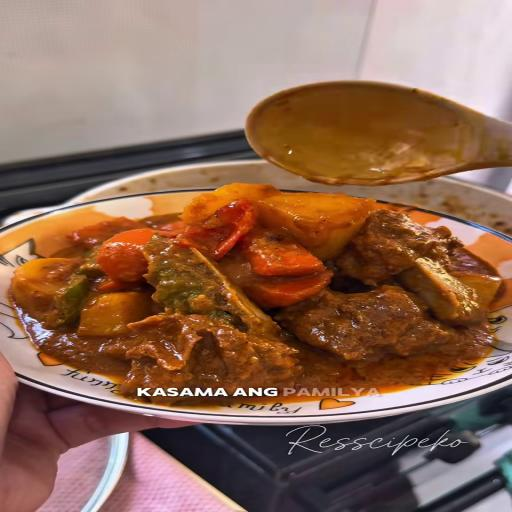pork caldereta: (0, 188, 511, 384)
